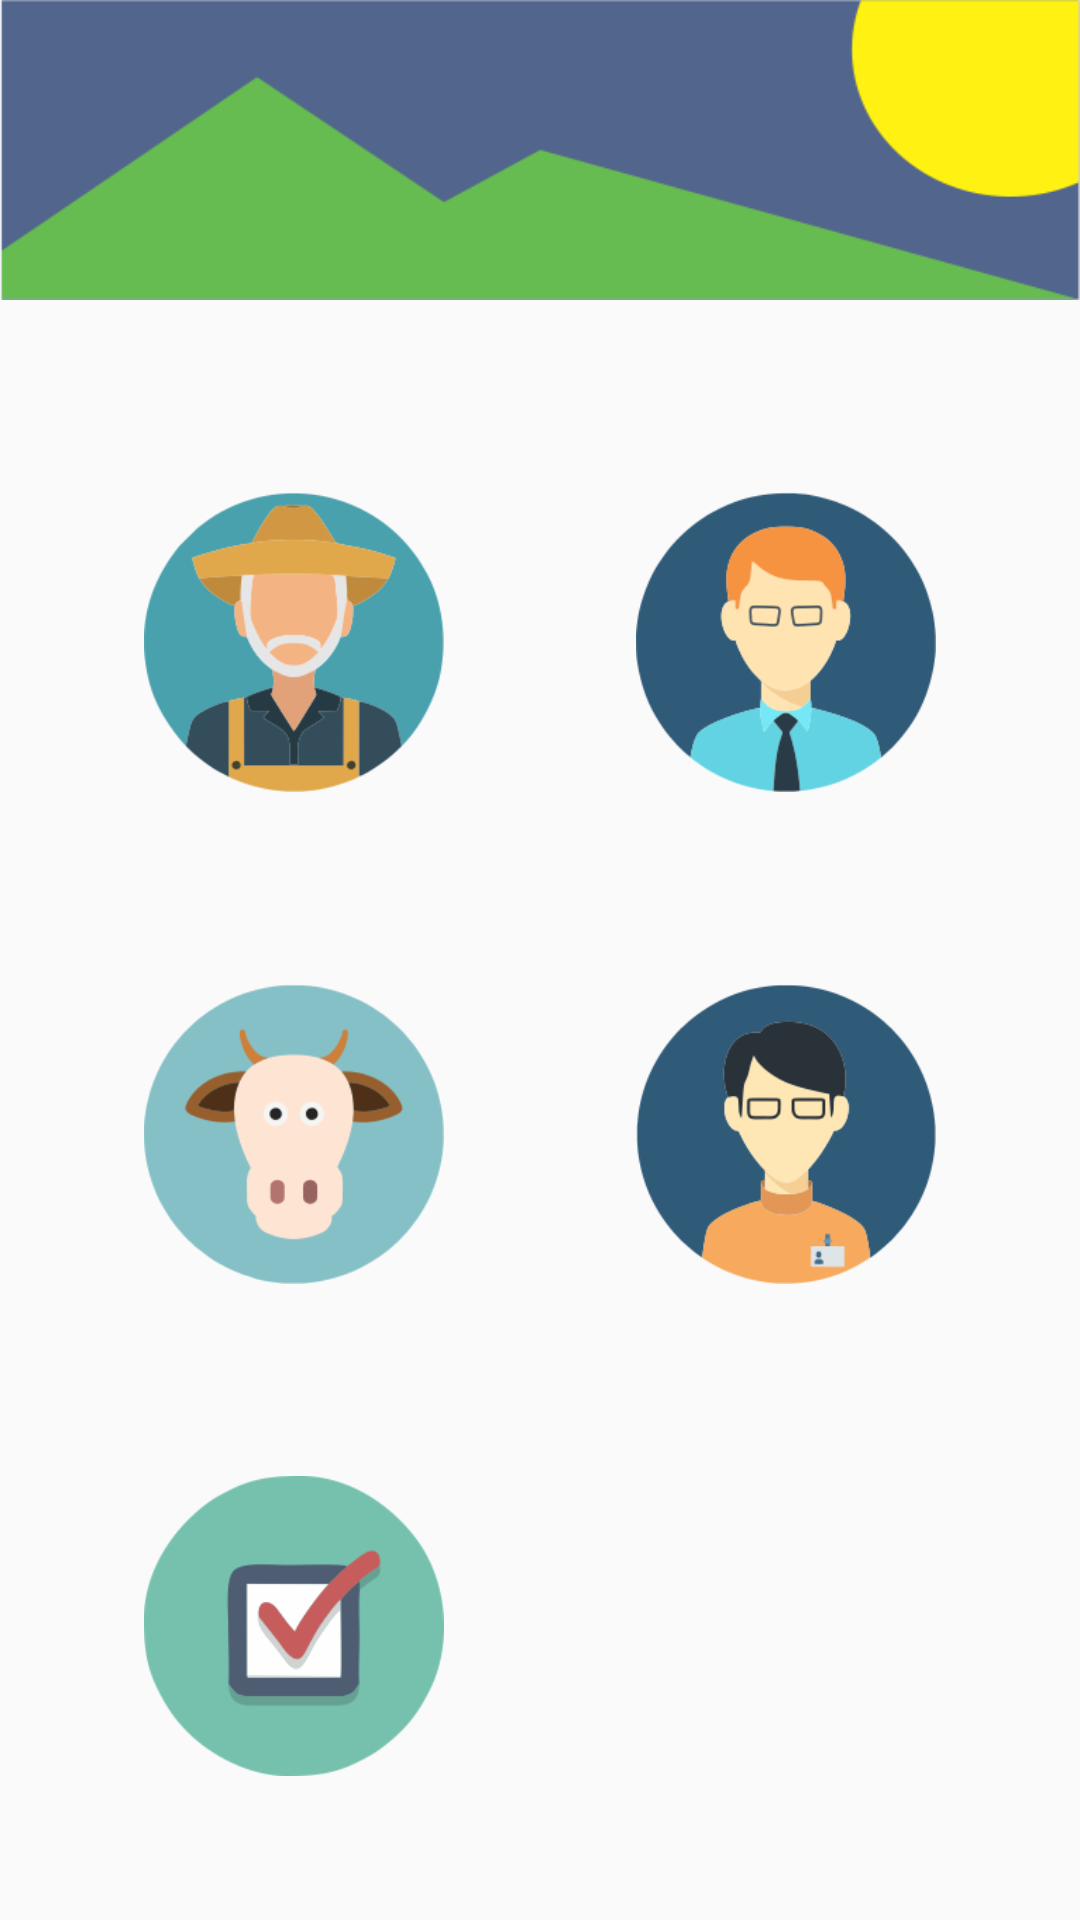

Locate icon controls on the screen. Image size 1080px×1920px, boxes as BBox(x1, y1, x2, y2).
investor: BBox(636, 493, 936, 792)
mantri: BBox(636, 985, 936, 1284)
petani: BBox(144, 493, 444, 792)
planner: BBox(144, 1476, 444, 1776)
sapi: BBox(144, 985, 444, 1284)
